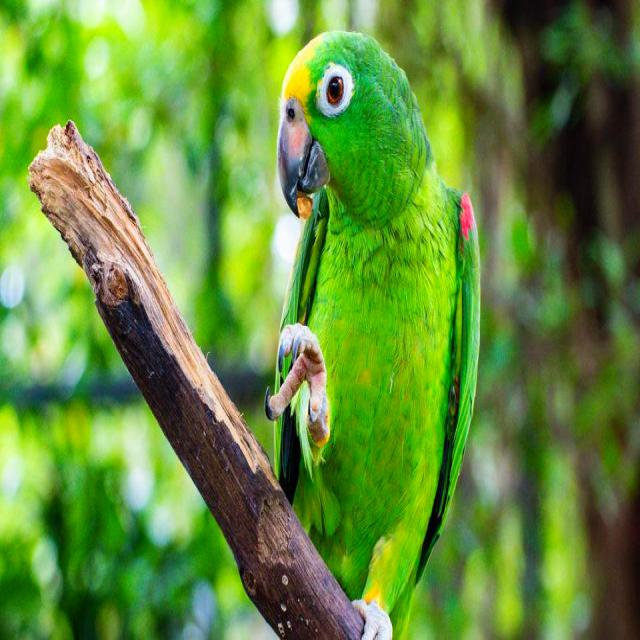parrot: (266, 31, 481, 639)
